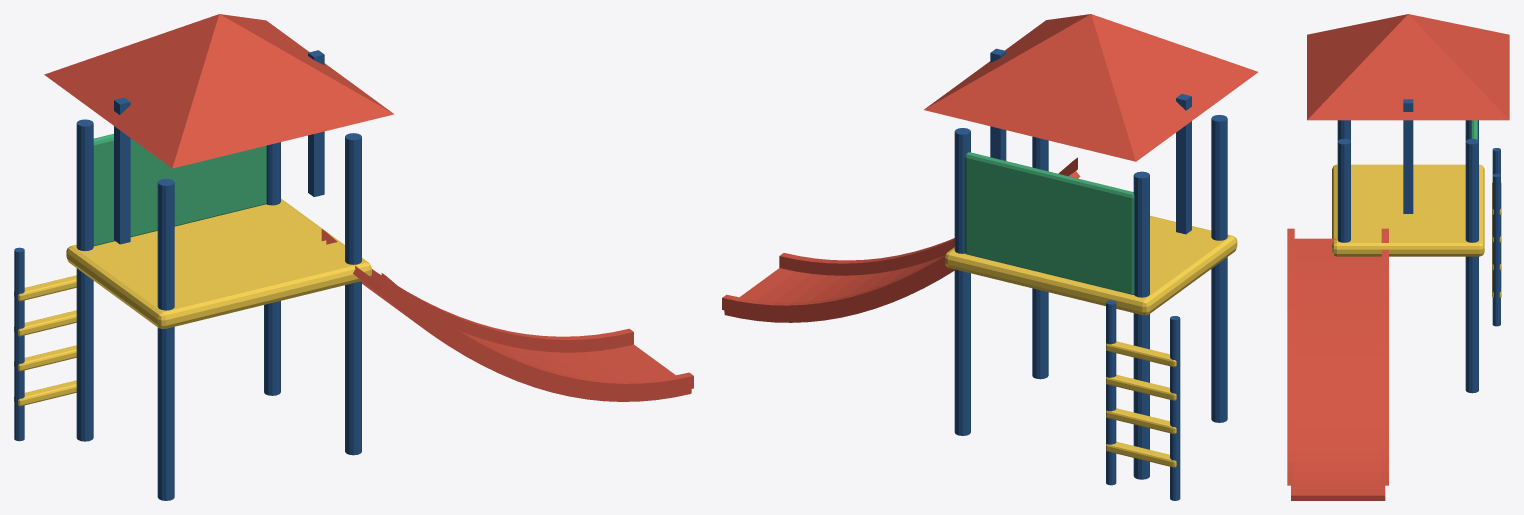
The model's file is playroom-slide.glb.
3 renders of one model, left to right at view 1: azimuth 30°, elevation 25°; view 2: azimuth 150°, elevation 25°; view 3: azimuth 270°, elevation 25°, orthographic. The views are drawn at different scales.
Visible parts, largest first — view 1: Simple pyramid roof, Platform, Rear panel, Curved slide, Tower post, Tower post.001, Tower post.002, Curved slide edge, Curved slide edge.001, Tower post.003, Roof support, Ladder rail (+5 smaller); view 2: Simple pyramid roof, Rear panel, Platform, Curved slide, Tower post, Tower post.003, Tower post.001, Curved slide edge.001, Curved slide edge, Tower post.002, Roof support, Ladder rail (+6 smaller); view 3: Curved slide, Simple pyramid roof, Platform, Tower post.003, Curved slide edge, Curved slide edge.001, Tower post.002, Ladder rail.001, Roof support.001, Tower post.
Part boxes in pixels (box(x1,y1,x2,y2)): Simple pyramid roof: box(44, 14, 393, 168); Platform: box(66, 198, 371, 328); Rear panel: box(93, 134, 266, 246); Curved slide: box(353, 266, 691, 401); Tower post: box(157, 178, 174, 500); Tower post.001: box(76, 119, 93, 441); Tower post.002: box(345, 133, 361, 455); Curved slide edge: box(381, 273, 693, 396); Curved slide edge.001: box(321, 229, 633, 352); Tower post.003: box(264, 142, 280, 395); Roof support: box(114, 97, 130, 244); Ladder rail: box(14, 247, 24, 441); Simple pyramid roof: box(924, 14, 1258, 161); Rear panel: box(964, 152, 1134, 294); Platform: box(945, 215, 1237, 315); Curved slide: box(724, 171, 1080, 322); Tower post: box(1211, 115, 1227, 422); Tower post.003: box(954, 128, 970, 435); Tower post.001: box(1133, 171, 1149, 479); Curved slide edge.001: box(722, 255, 946, 317); Curved slide edge: box(779, 157, 1077, 275); Tower post.002: box(1032, 136, 1048, 379); Roof support: box(1176, 94, 1191, 234); Ladder rail: box(1170, 316, 1180, 500); Curved slide: box(1291, 238, 1385, 500); Simple pyramid roof: box(1307, 14, 1509, 120); Platform: box(1332, 164, 1484, 256); Tower post.003: box(1465, 138, 1478, 393); Curved slide edge: box(1287, 228, 1294, 485); Curved slide edge.001: box(1381, 228, 1388, 485); Tower post.002: box(1337, 138, 1350, 242); Ladder rail.001: box(1492, 173, 1500, 326); Roof support.001: box(1403, 99, 1413, 213); Tower post: box(1337, 120, 1350, 140).
Size of the model in its own units: 8.17 by 6.15 by 3.65.
